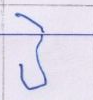e_matra: (13, 13, 49, 33)
